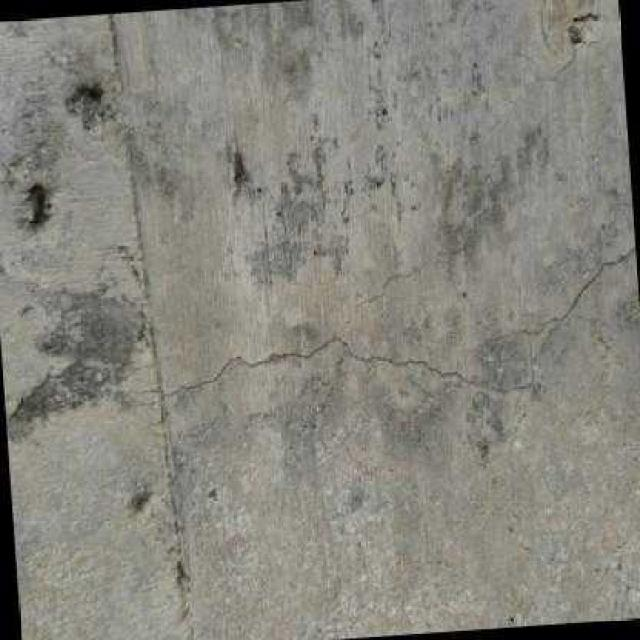D00: (148, 243, 636, 404)
